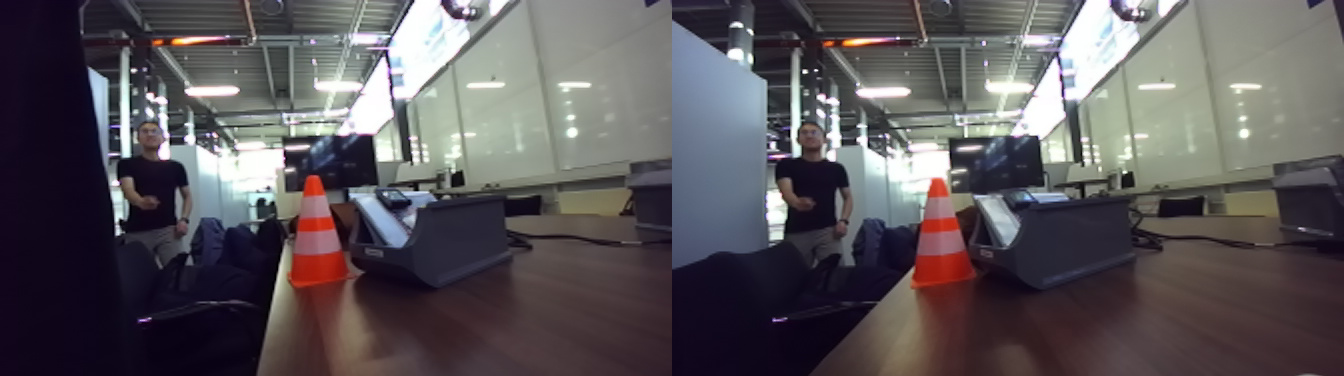cone: (900, 163, 1000, 309), (279, 167, 379, 305)
